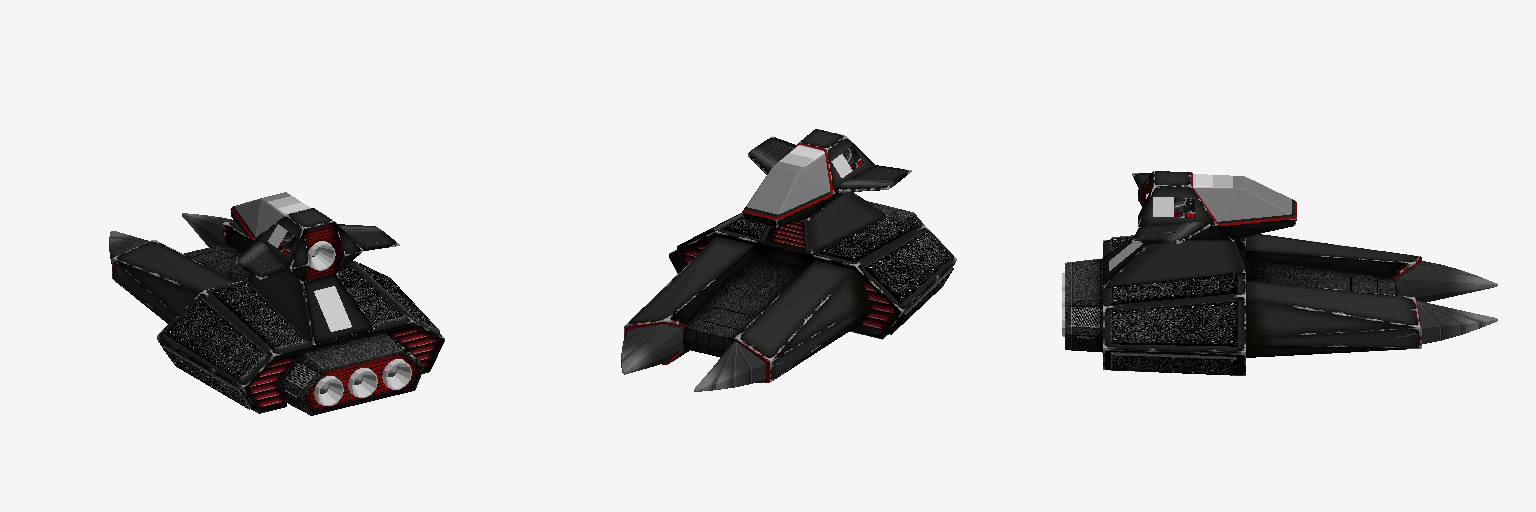
3 views of the same model, side by side, from view 1: azimuth 30°, elevation 25°; view 2: azimuth 150°, elevation 25°; view 3: azimuth 270°, elevation 25° (orthographic).
Parts seen in each view (by area): view 1: 30_blackbull_a; view 2: 30_blackbull_a; view 3: 30_blackbull_a.
Part boxes in pixels (x1,y1,x2,y2): 30_blackbull_a: (109,192,444,415); 30_blackbull_a: (621,129,956,391); 30_blackbull_a: (1062,171,1497,375).
Size of the model in its own units: 3.25 by 2.07 by 5.26.
27 materials, 8 textured.